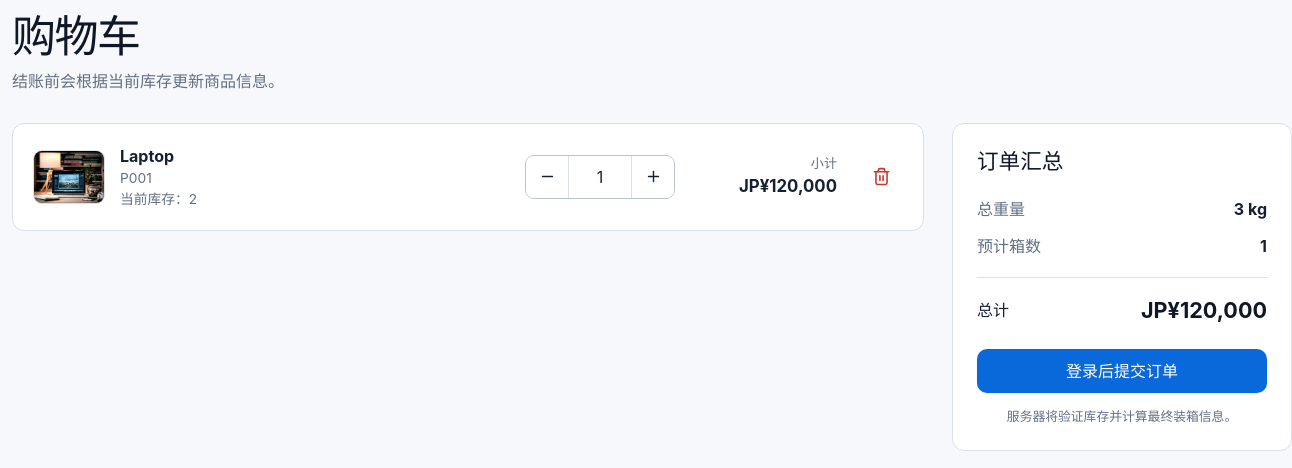
Test case: CartPage › rejects invalid quantity without changing the cart in zh-CN
Clear the number field named "Laptop 的数量" at [600, 177], box [568,156,632,198]
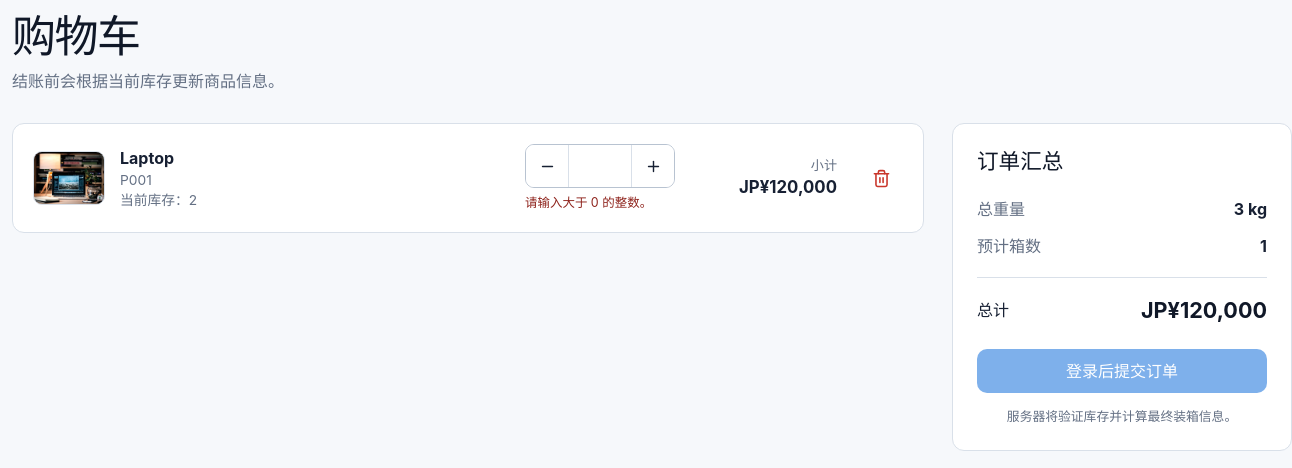
Now the message reads "请输入大于 0 的整数。", box [525,195,652,210]
Type "0" into the number field named "Laptop 的数量" at [600, 166], box [568,145,632,187]
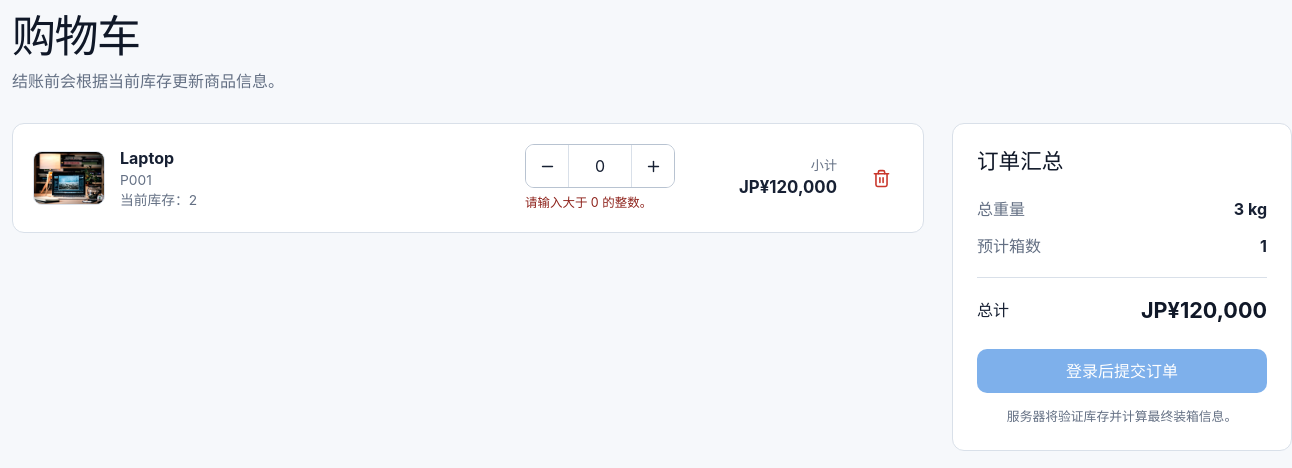
Now the message reads "请输入大于 0 的整数。", box [525,195,652,210]
Replace the text in the number field named "Laptop 的数量" with "-1" at [600, 166], box [568,145,632,187]
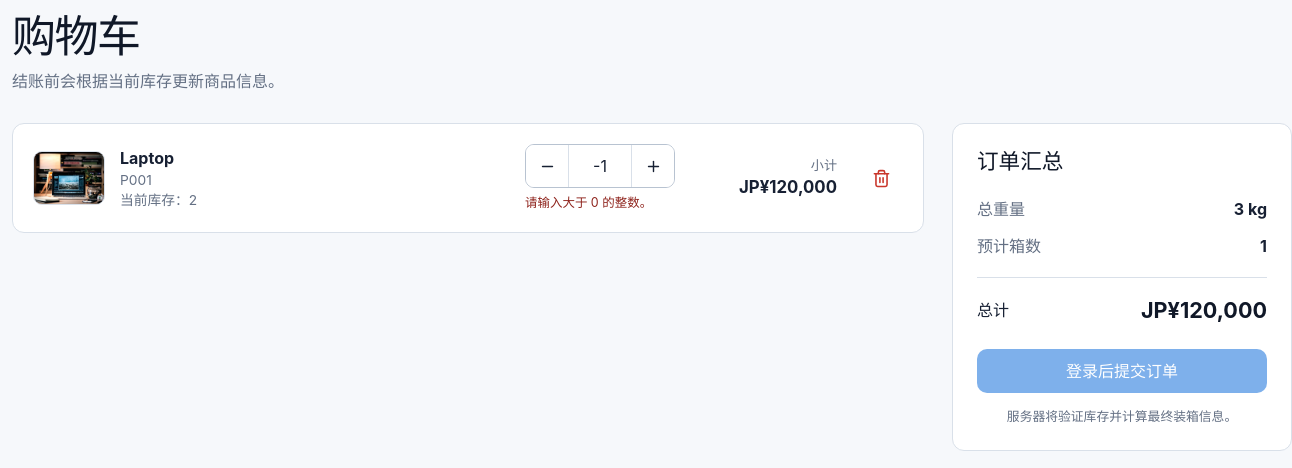
Now the message reads "请输入大于 0 的整数。", box [525,195,652,210]
Replace the text in the number field named "Laptop 的数量" with "1.5" at [600, 166], box [568,145,632,187]
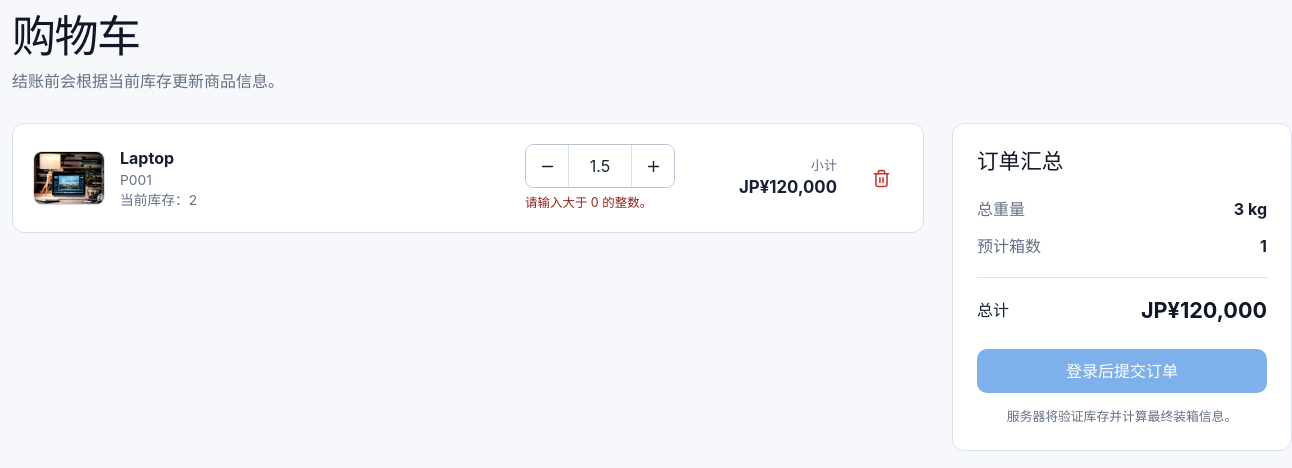
Now the message reads "请输入大于 0 的整数。", box [525,195,652,210]
Replace the text in the number field named "Laptop 的数量" with "2" at [600, 166], box [568,145,632,187]
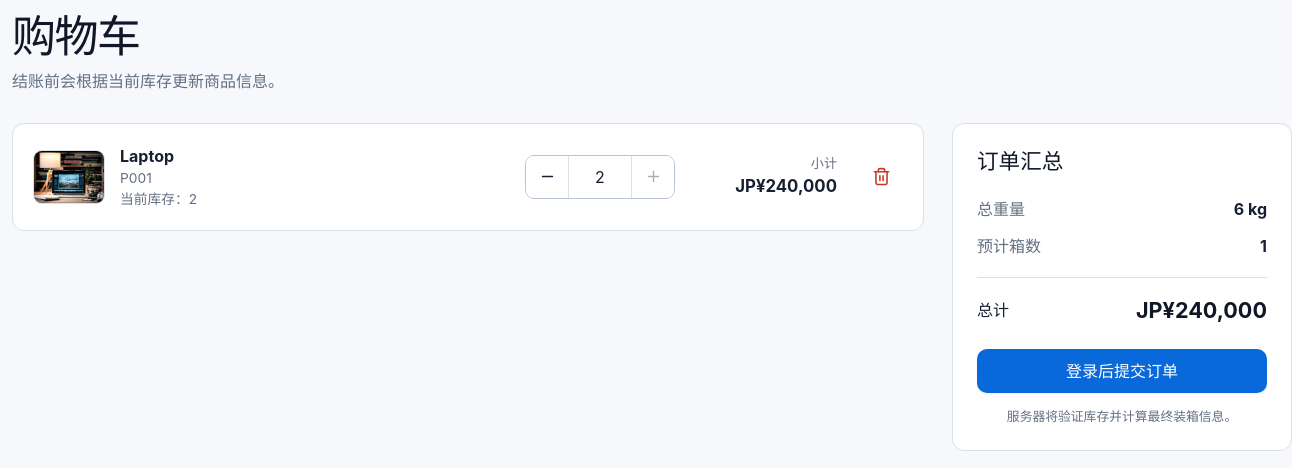
Now the message "请输入大于 0 的整数。" is gone
